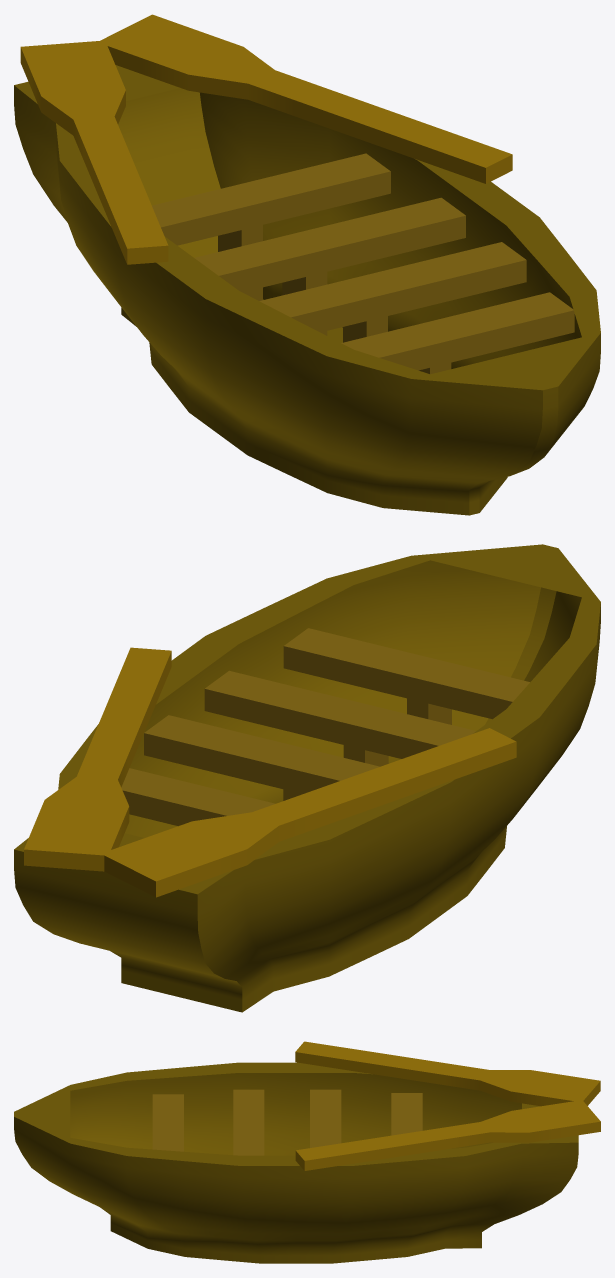
File: Boat.fbx
3 views of the same model, one above another, from view 1: azimuth 30°, elevation 25°; view 2: azimuth 150°, elevation 25°; view 3: azimuth 270°, elevation 25° (orthographic). The views are drawn at different scales.
Parts seen in each view (by area): view 1: BoatBody, Oar1, Oar2, BoatBench1, BoatBench3, BoatBench2, BoatBench4, BoatBench5, BoatBench7; view 2: BoatBody, Oar2, Oar1, BoatBench3, BoatBench4, BoatBench1, BoatBench2, BoatBench8; view 3: BoatBody, Oar1, Oar2, BoatBench3, BoatBench1, BoatBench4, BoatBench2.
Boxes of the visible parts, x1=… form: BoatBody: x1=14, y1=65, x2=600, y2=515; Oar1: x1=97, y1=14, x2=512, y2=183; Oar2: x1=20, y1=41, x2=168, y2=264; BoatBench1: x1=194, y1=197, x2=465, y2=292; BoatBench3: x1=259, y1=242, x2=526, y2=332; BoatBench2: x1=152, y1=153, x2=390, y2=245; BoatBench4: x1=341, y1=292, x2=574, y2=370; BoatBench5: x1=218, y1=225, x2=262, y2=300; BoatBench7: x1=343, y1=316, x2=387, y2=342; BoatBody: x1=14, y1=544, x2=600, y2=1012; Oar2: x1=101, y1=728, x2=516, y2=897; Oar1: x1=24, y1=647, x2=171, y2=871; BoatBench3: x1=204, y1=670, x2=475, y2=758; BoatBench4: x1=283, y1=628, x2=529, y2=719; BoatBench1: x1=144, y1=715, x2=379, y2=793; BoatBench2: x1=121, y1=768, x2=275, y2=826; BoatBench8: x1=407, y1=698, x2=451, y2=724; BoatBody: x1=14, y1=1062, x2=578, y2=1263; Oar1: x1=295, y1=1100, x2=600, y2=1170; Oar2: x1=295, y1=1041, x2=600, y2=1106; BoatBench3: x1=233, y1=1089, x2=264, y2=1155; BoatBench1: x1=310, y1=1089, x2=341, y2=1147; BoatBench4: x1=152, y1=1094, x2=183, y2=1151; BoatBench2: x1=391, y1=1093, x2=422, y2=1135.
Bounding box in the file's own units: 82.78 × 41.28 × 172.
